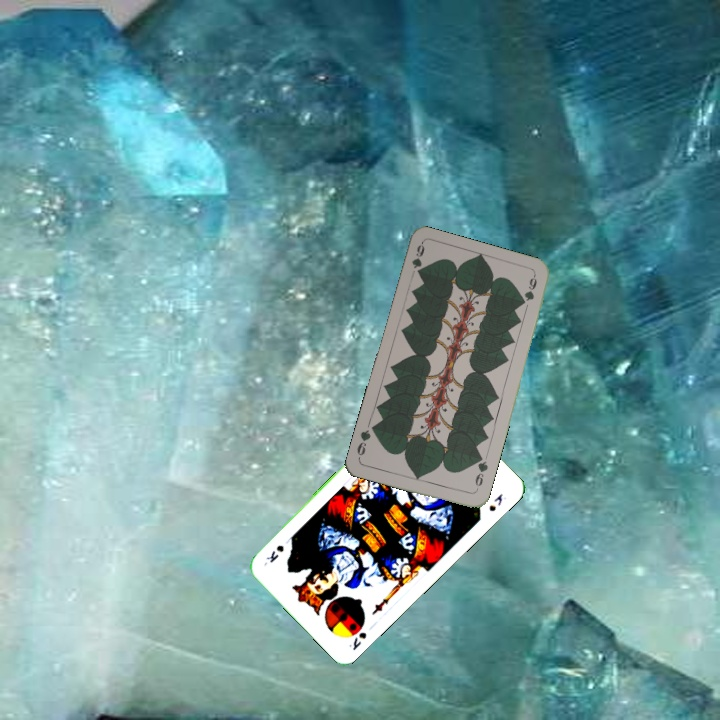G9: (471, 453, 491, 494), (408, 240, 427, 278)
SK: (344, 628, 369, 653)
